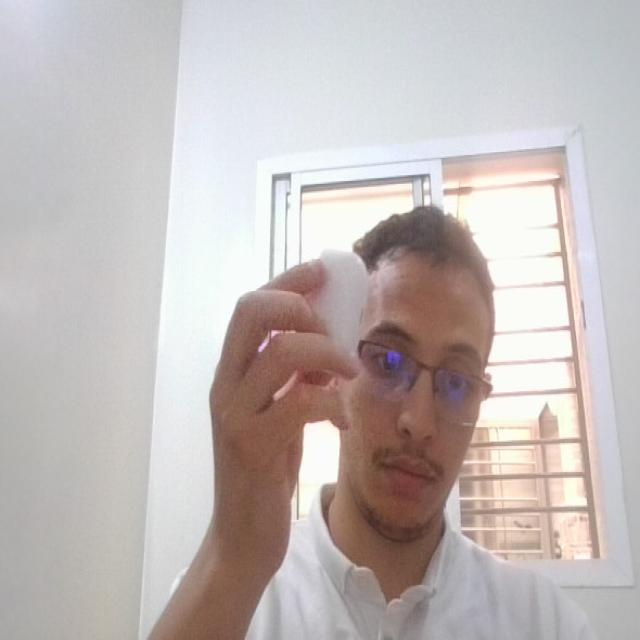airpods: (294, 238, 373, 396)
